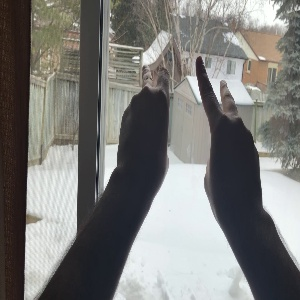hand: (196, 56, 265, 209), (118, 64, 173, 181)
